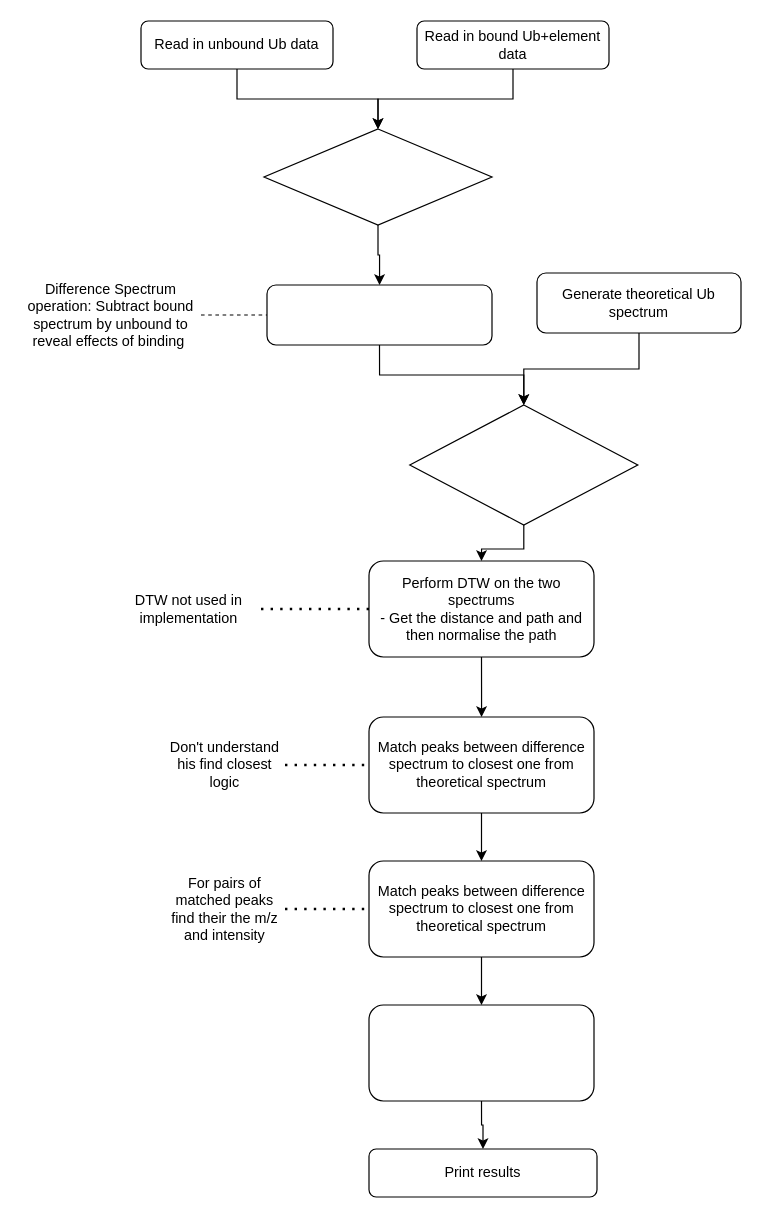
The diagram is 762 pixels wide and 1218 high, and some of its shapes have lost their labels. The box of each missing label's shape, as (x1, y1, x2, y2) in pixels:
Convert spectrum to list of m/z items: (409, 404, 638, 525)
Create difference spectrum: (266, 284, 492, 345)
Identify ion fragment of the peaks: (368, 1004, 594, 1101)
Preprocess - Create spectrum for each: (263, 128, 492, 225)
